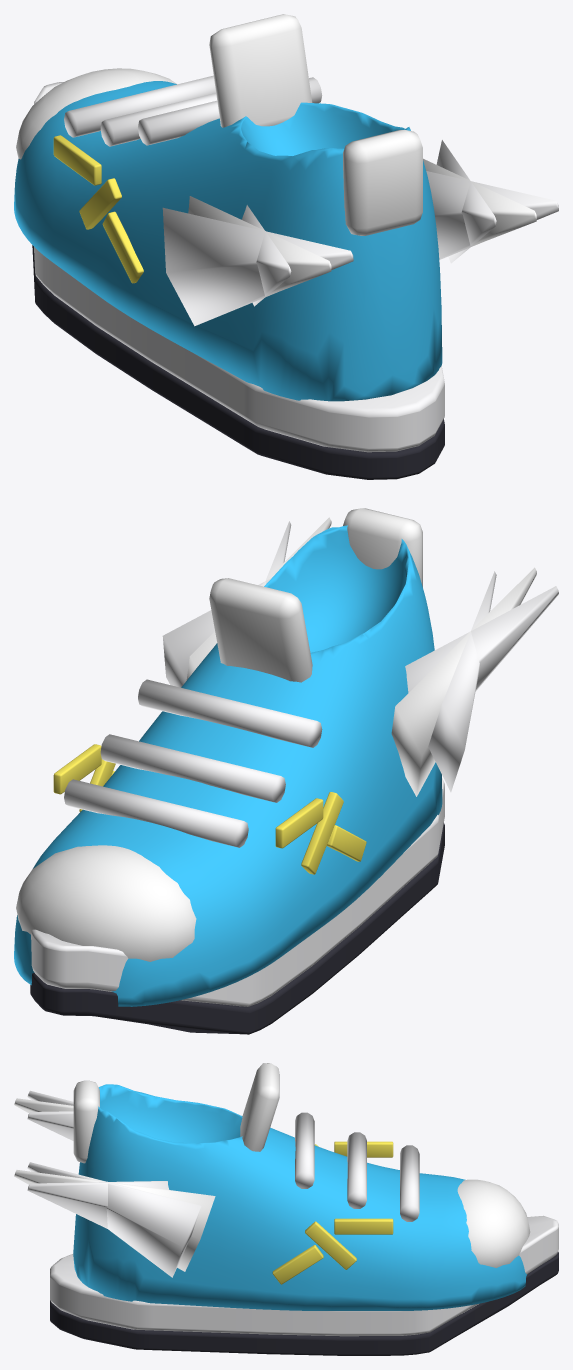
File: shoe_speed.fbx
3 renders of one model, top to bottom at view 1: azimuth 30°, elevation 25°; view 2: azimuth 150°, elevation 25°; view 3: azimuth 270°, elevation 25°, orthographic. The views are drawn at different scales.
Parts seen in each view (by area): view 1: shoe_speed; view 2: shoe_speed; view 3: shoe_speed.
Boxes of the visible parts, left/top/right/bottom form: shoe_speed: left=14, top=14, right=558, bottom=479; shoe_speed: left=14, top=508, right=558, bottom=1034; shoe_speed: left=14, top=1063, right=558, bottom=1355.
Size of the model in its own units: 1.87 by 2.06 by 4.15.
1 material, 1 textured.
